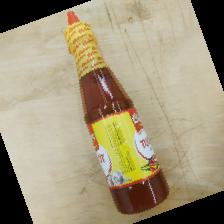Tuong: (63, 8, 170, 215)
